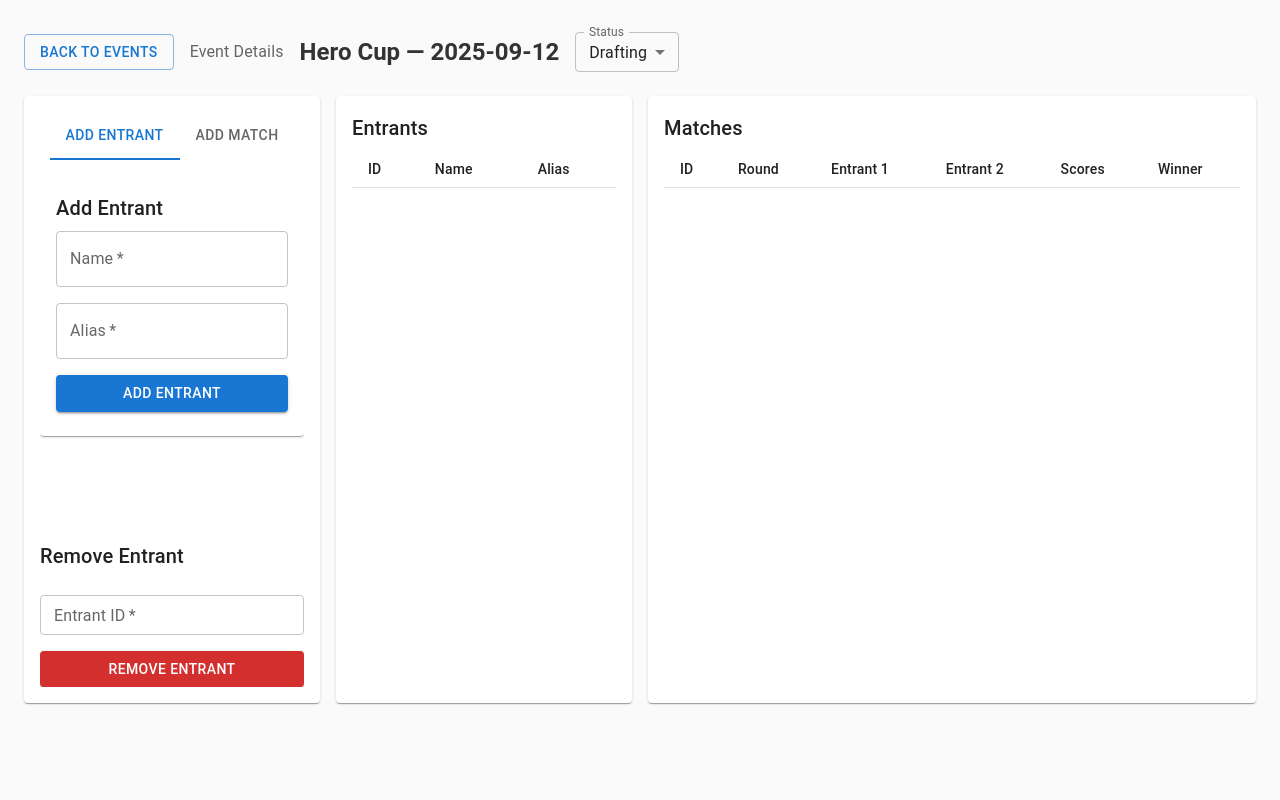
it: EventDetail › updates event status via dropdown
Click the dropdown named "status" at (618, 52), box 589,42 -> 647,62
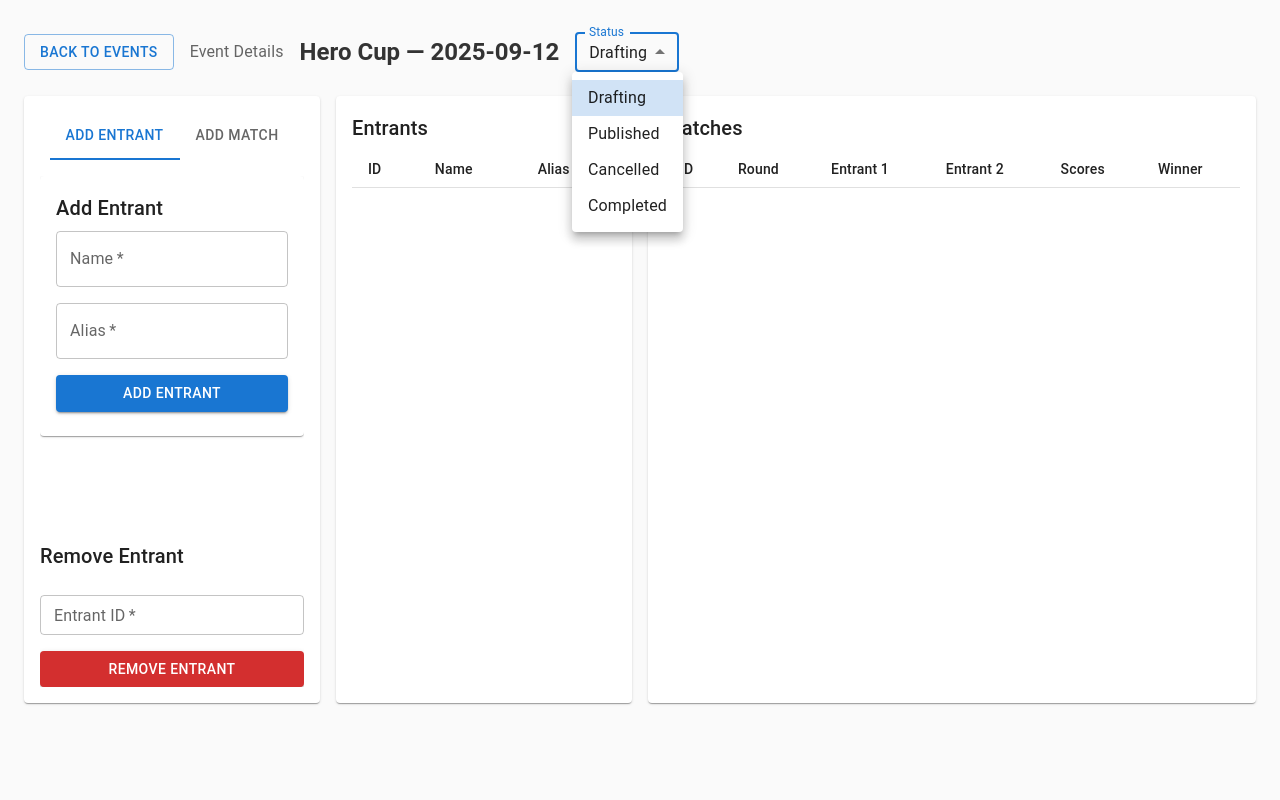
Click the option "Published" at (624, 134), box 588,124 -> 660,143
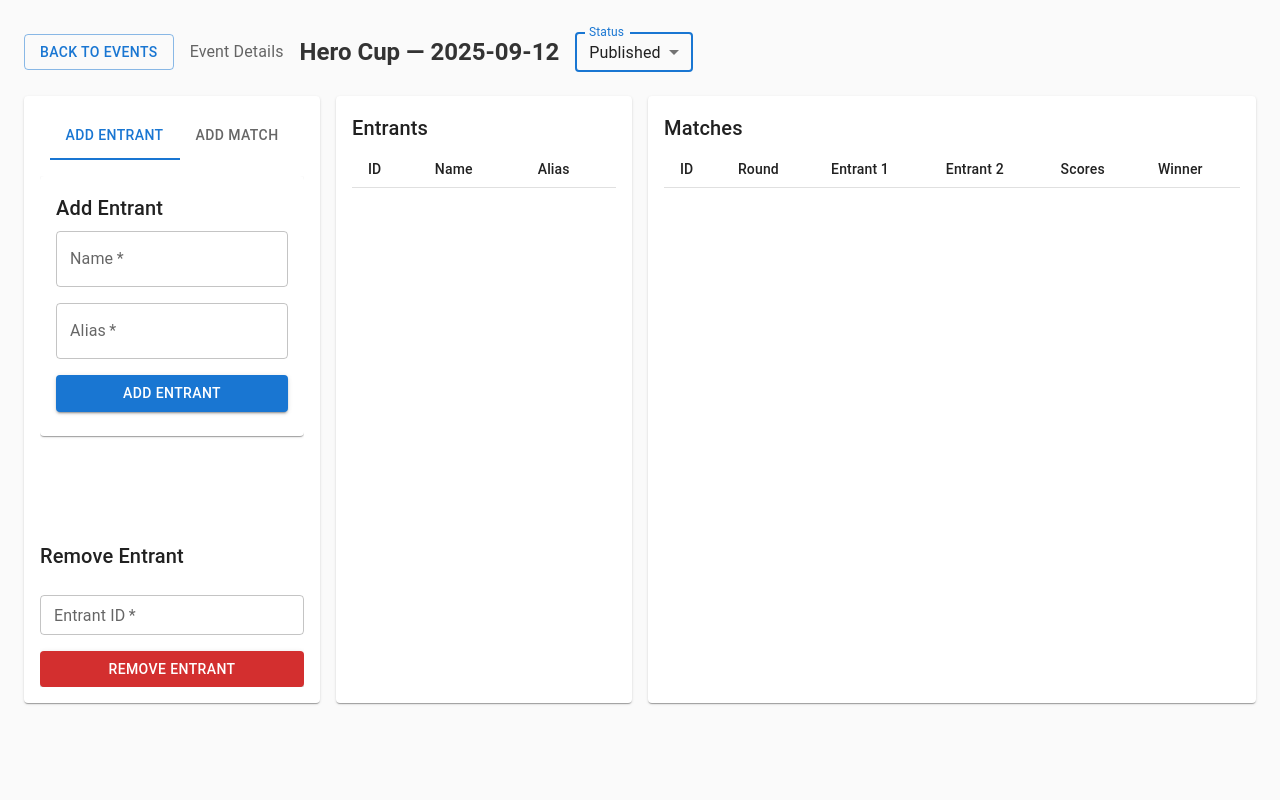
Now the dropdown named "status" reads "Published", box 589,42 -> 661,62
